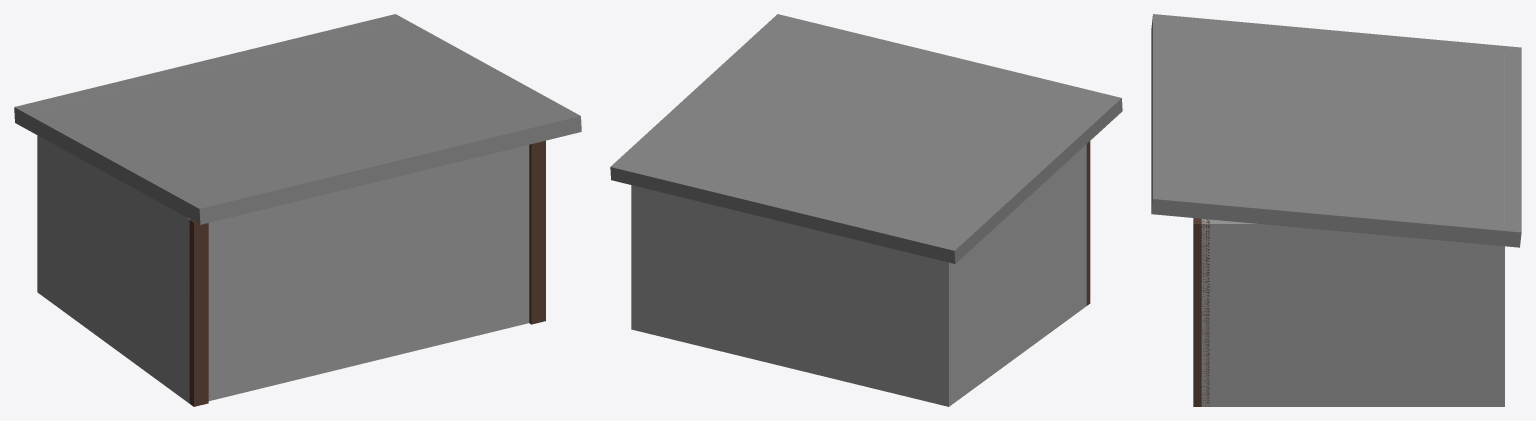
Rendered from tractorshed.glb.
The picture shows the model from 3 angles, left to right: view 1: azimuth 30°, elevation 25°; view 2: azimuth 150°, elevation 25°; view 3: azimuth 270°, elevation 25°; orthographic projection. The views are drawn at different scales.
Visible parts, largest first — view 1: tractorshed, garage_door; view 2: tractorshed; view 3: tractorshed.
Boxes of the visible parts, <box> form: tractorshed: <box>14,14,581,406</box>; garage_door: <box>208,145,529,400</box>; tractorshed: <box>610,14,1122,406</box>; tractorshed: <box>1151,14,1521,406</box>.
Bounding box in the file's own units: 2.6 × 1.41 × 2.2.
